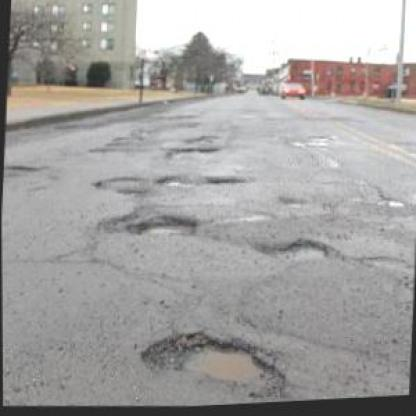pothole: (136, 324, 292, 398), (252, 236, 333, 268), (125, 210, 201, 242), (202, 172, 249, 189), (154, 174, 198, 192), (171, 143, 223, 158)
